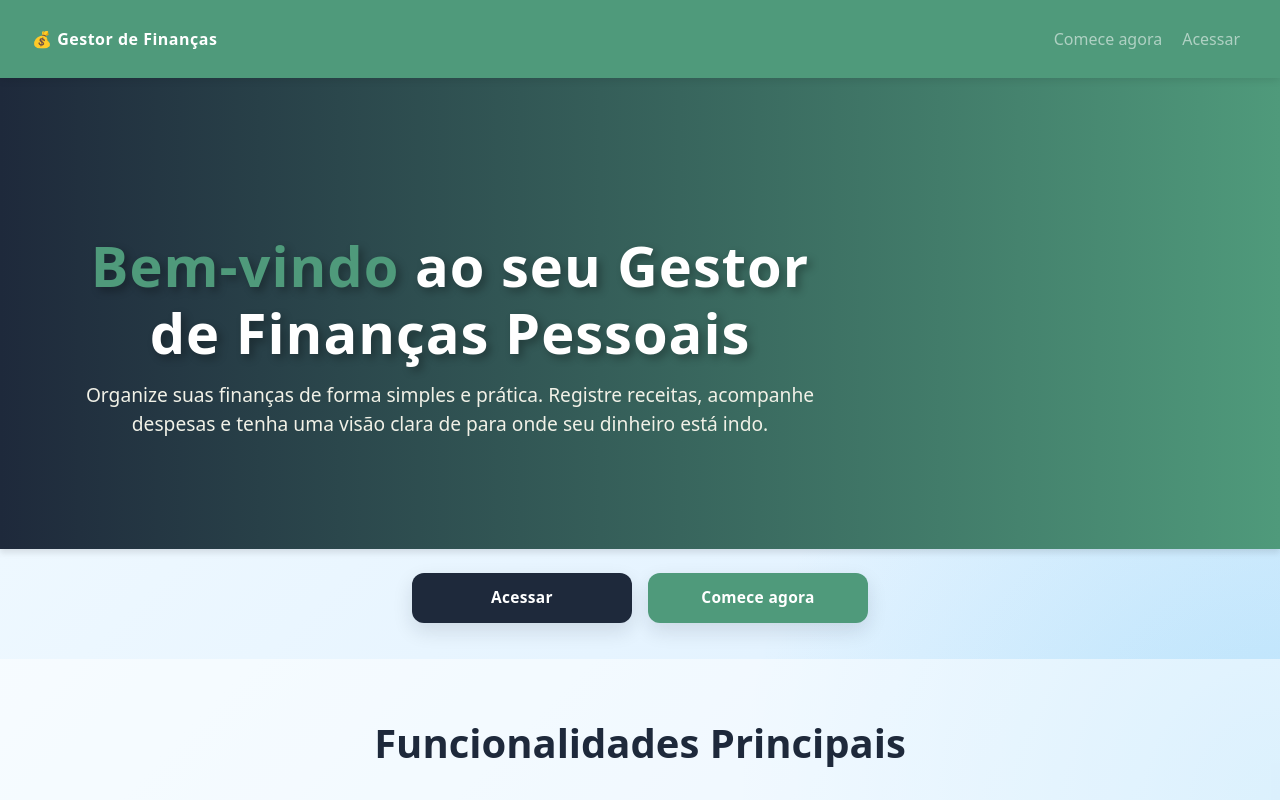
it: navbar actions open the same modal as the home buttons
Click the button with aria-label "abrir formulário de acesso": coordinates (1211, 39) [1174,19,1248,59]
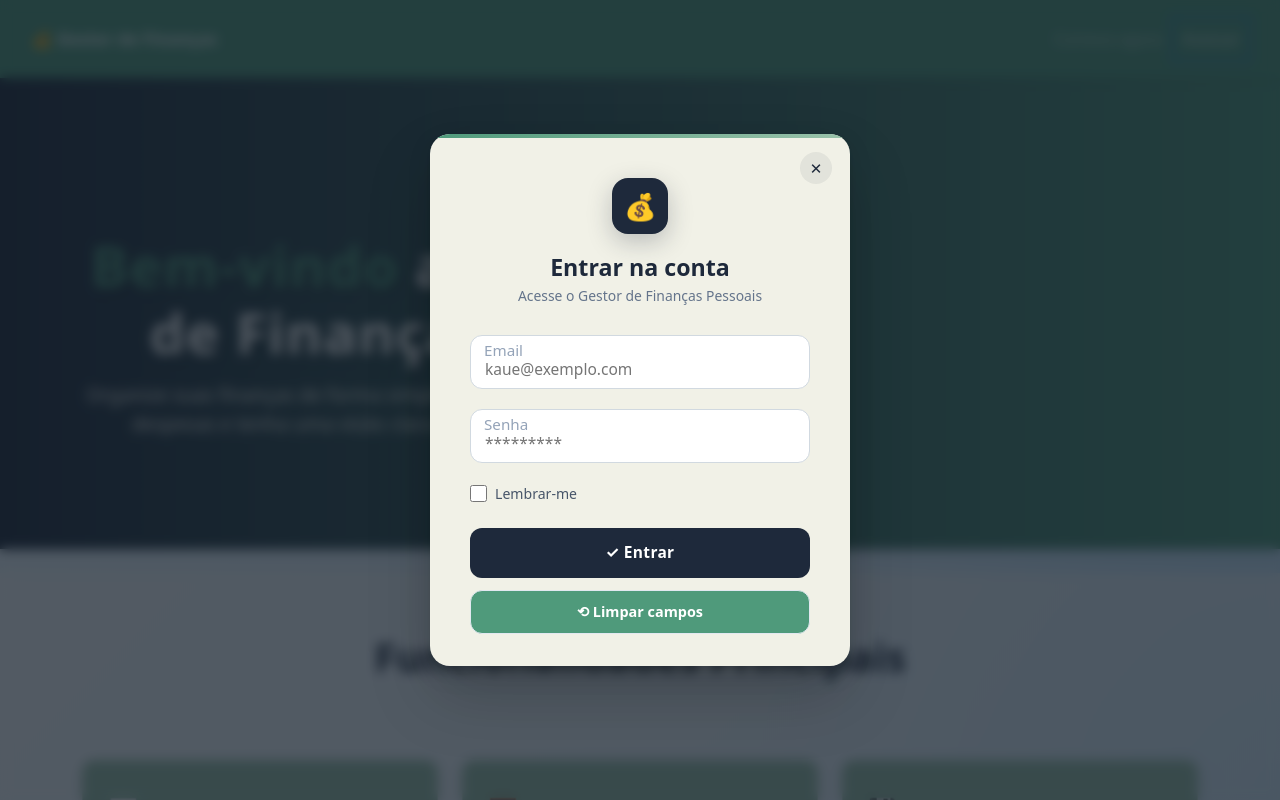
Now the heading "Entrar na conta" is shown, box [550,251,730,283]
Click the button named "fechar": coordinates (816, 168) [800,152,832,184]
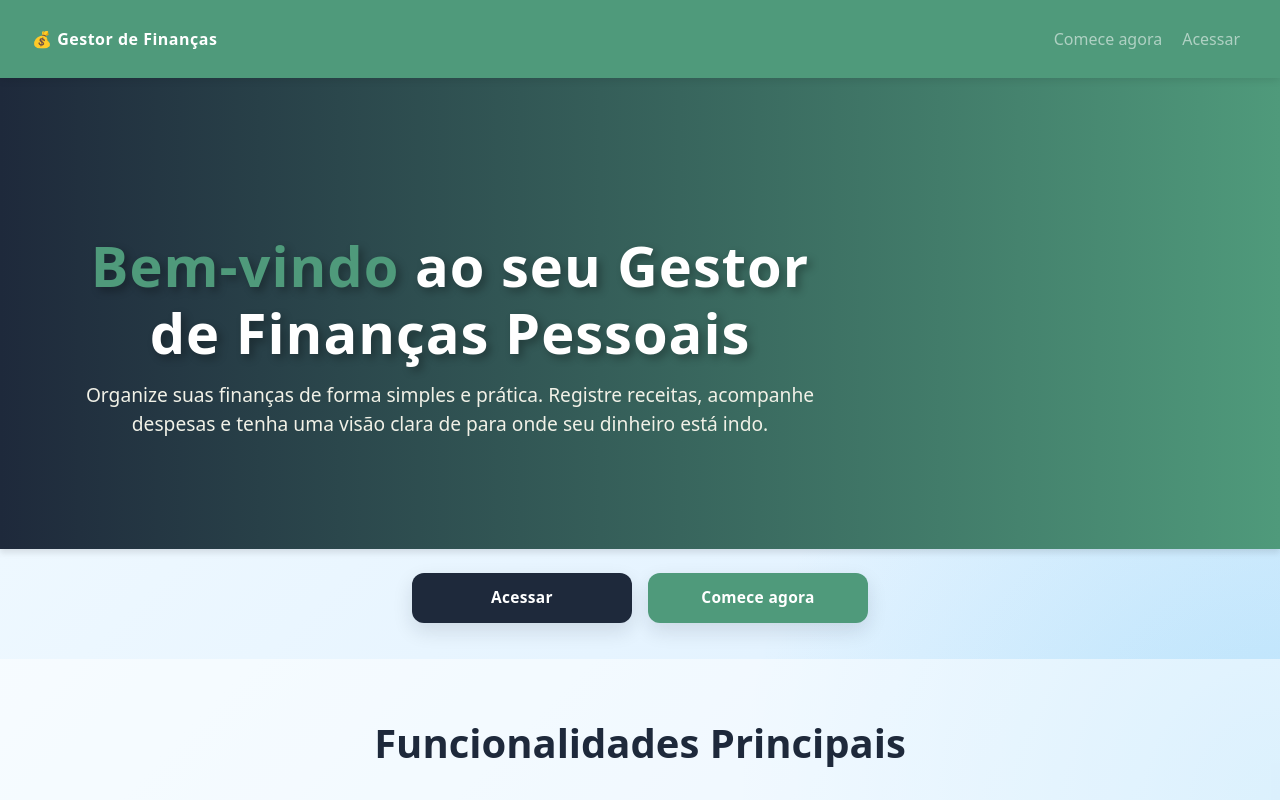
Click the button with aria-label "abrir formulário de cadastro": coordinates (1108, 39) [1046,19,1170,59]
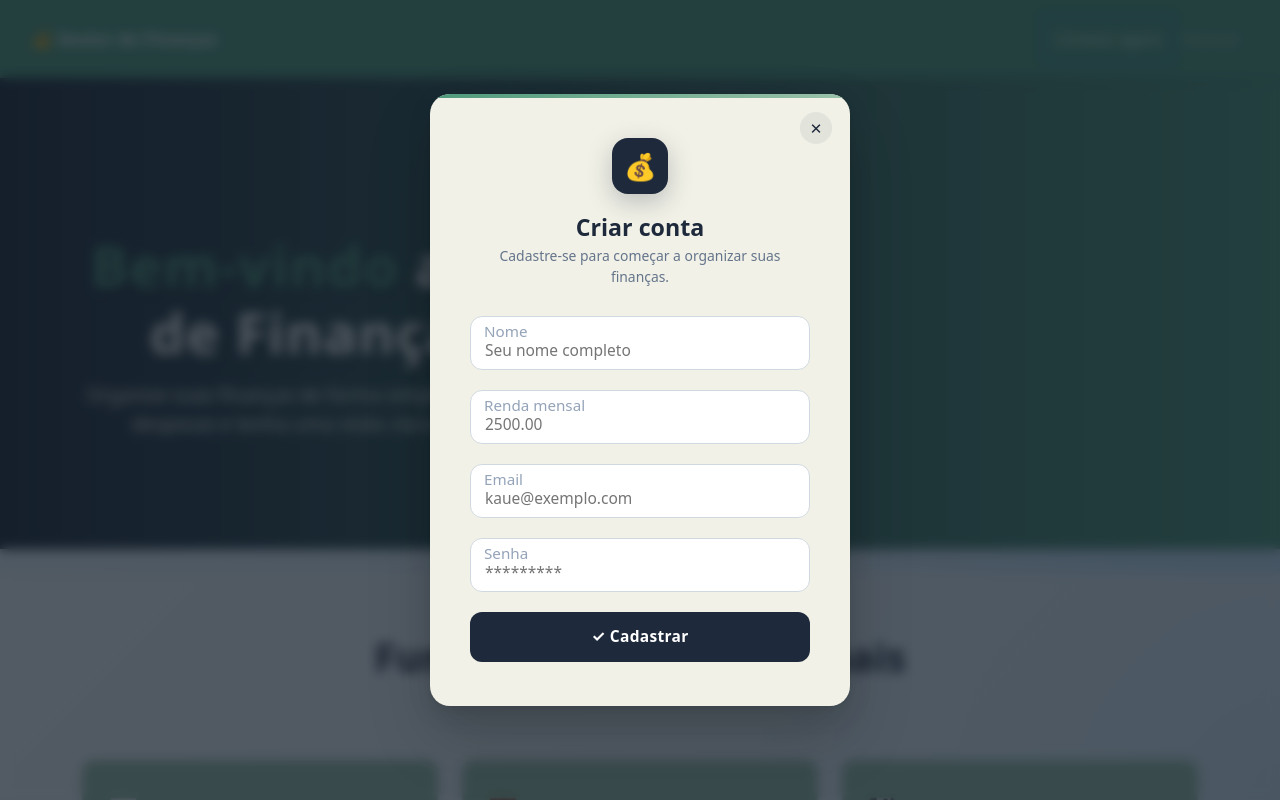
Now the heading "Criar conta" is shown, box [576,211,704,243]
